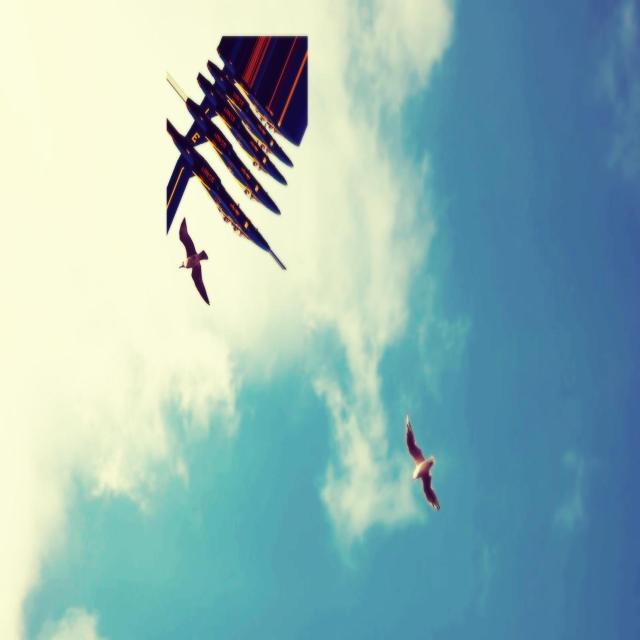airplane: (165, 34, 308, 272)
